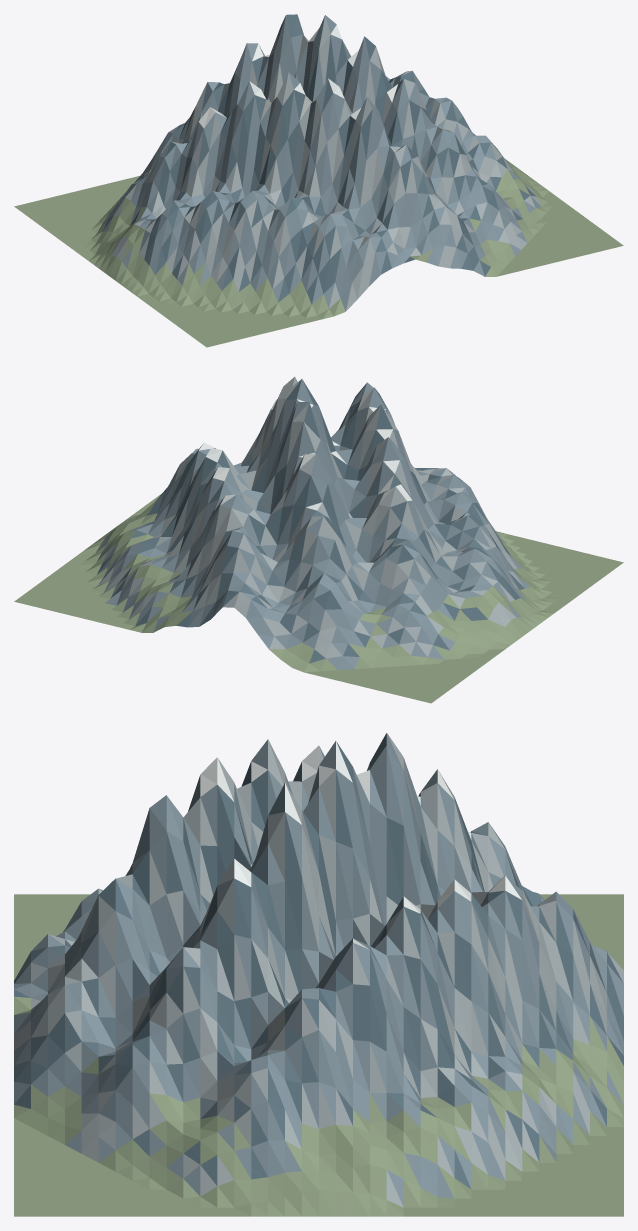
The model's file is ridge-1.glb.
The picture shows the model from 3 angles, top to bottom: view 1: azimuth 30°, elevation 25°; view 2: azimuth 150°, elevation 25°; view 3: azimuth 270°, elevation 25°; orthographic projection. The views are drawn at different scales.
Visible parts, largest first — view 1: Mountain ridge; view 2: Mountain ridge; view 3: Mountain ridge.
Part boxes in pixels (<box>): Mountain ridge: <box>14,14,623,347</box>; Mountain ridge: <box>14,376,623,703</box>; Mountain ridge: <box>14,733,623,1216</box>.
Bounding box in the file's own units: 300 × 141 × 240.
